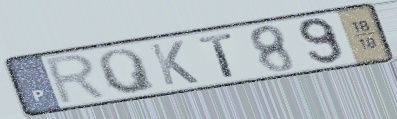8: (247, 23, 297, 74)
9: (297, 15, 346, 68)
K: (147, 38, 202, 88)
Q: (96, 47, 160, 96)
R: (42, 51, 112, 108)
T: (196, 31, 238, 80)
